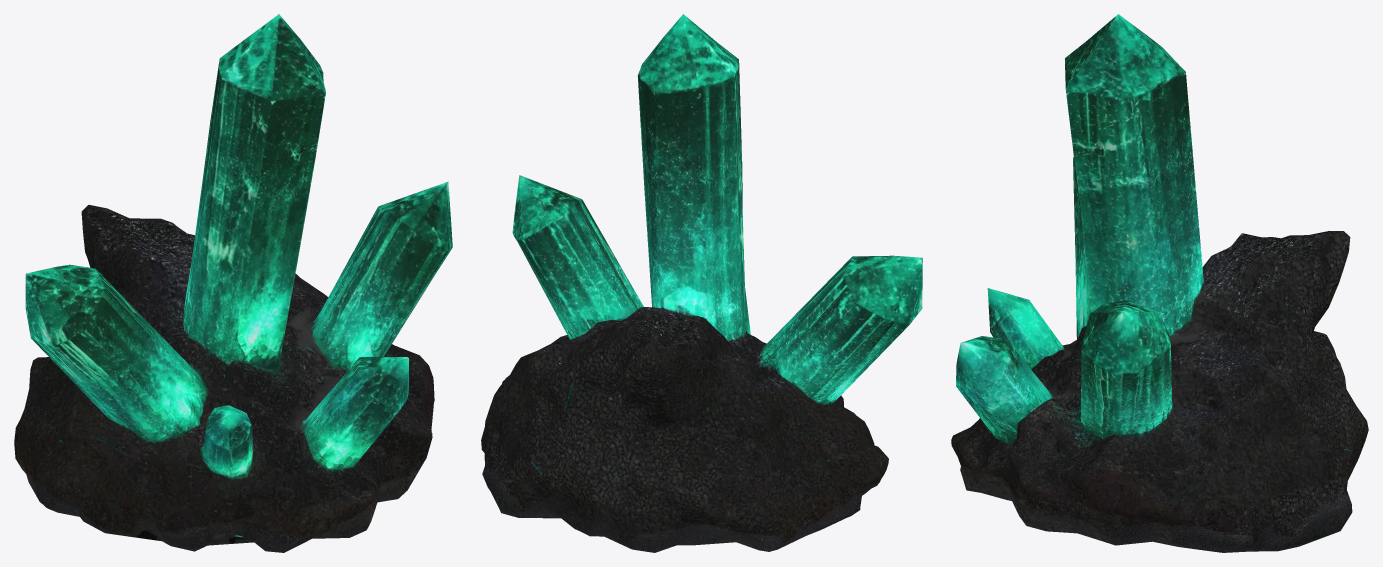
Rendered from crystal-cluster-emerald.glb.
3 renders of one model, left to right at view 1: azimuth 30°, elevation 25°; view 2: azimuth 150°, elevation 25°; view 3: azimuth 270°, elevation 25°, orthographic. The views are drawn at different scales.
Visible parts, largest first — view 1: Mesh1.0; view 2: Mesh1.0; view 3: Mesh1.0.
Boxes of the visible parts, x1=… form: Mesh1.0: x1=14, y1=14, x2=452, y2=552; Mesh1.0: x1=481, y1=14, x2=922, y2=552; Mesh1.0: x1=951, y1=14, x2=1368, y2=552.
Size of the model in its own units: 1.81 by 1.91 by 1.52.
1 material, 1 textured.
